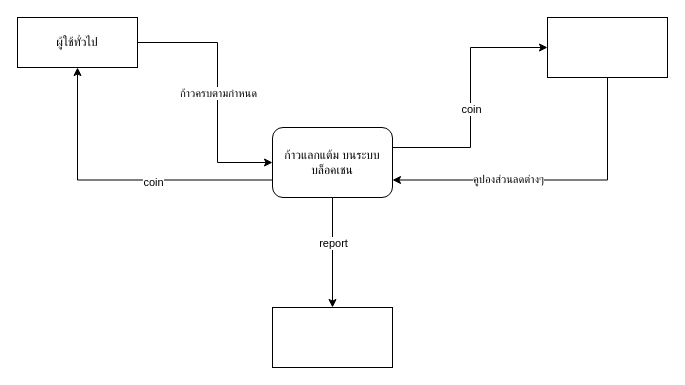
Some shapes in this 685 by 385 pixel diagram are drawn without their labels. Each missing label, with the centre of its shape:
ผู้พัฒนาระบบ: (332,337)
ร้านค้าที่ร่วมรายการ: (607,47)
